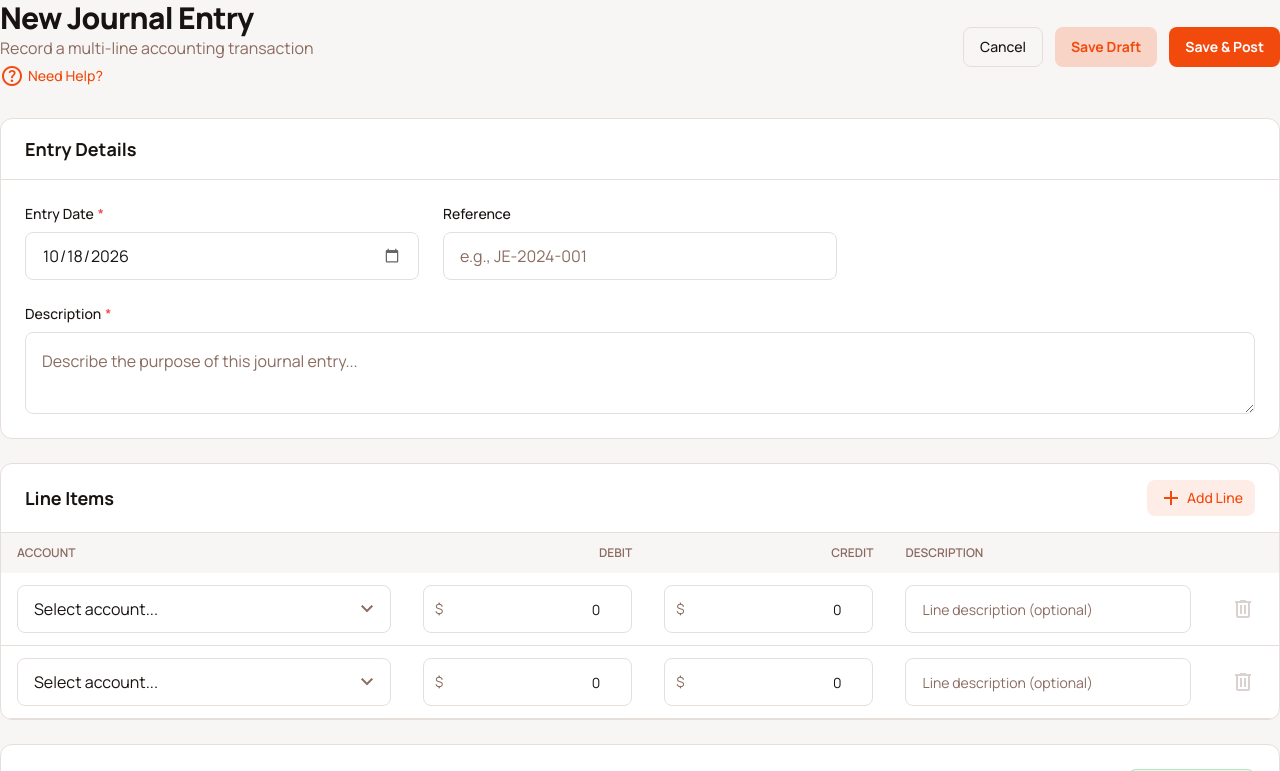
Test: JournalEntryPage validation › rejects an unbalanced draft with the totals message
In the text box with test id "journal-entry-description-input": {"x": 640, "y": 373} [25, 332, 1255, 414], type "Unbalanced"
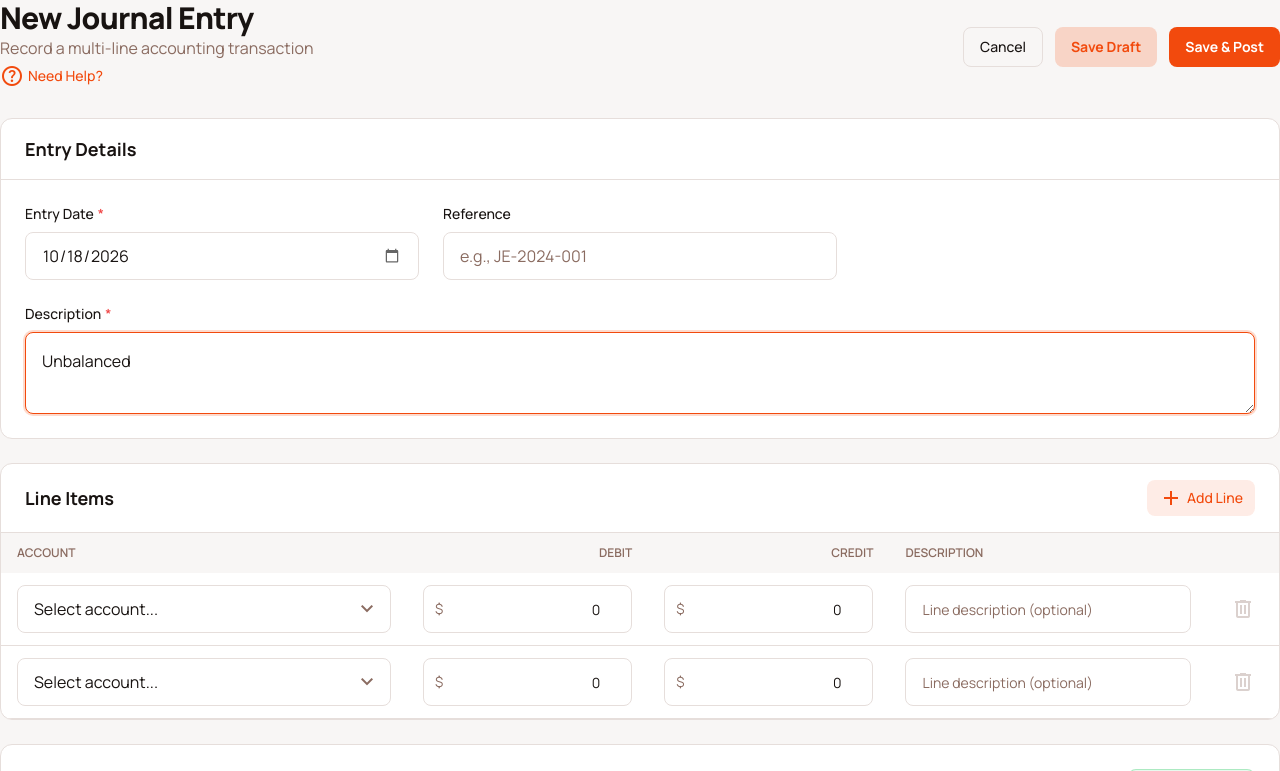
Select "5200 - Rent Expense" in the dropdown with test id "journal-entry-line-0-account": {"x": 204, "y": 609} [17, 585, 391, 633]
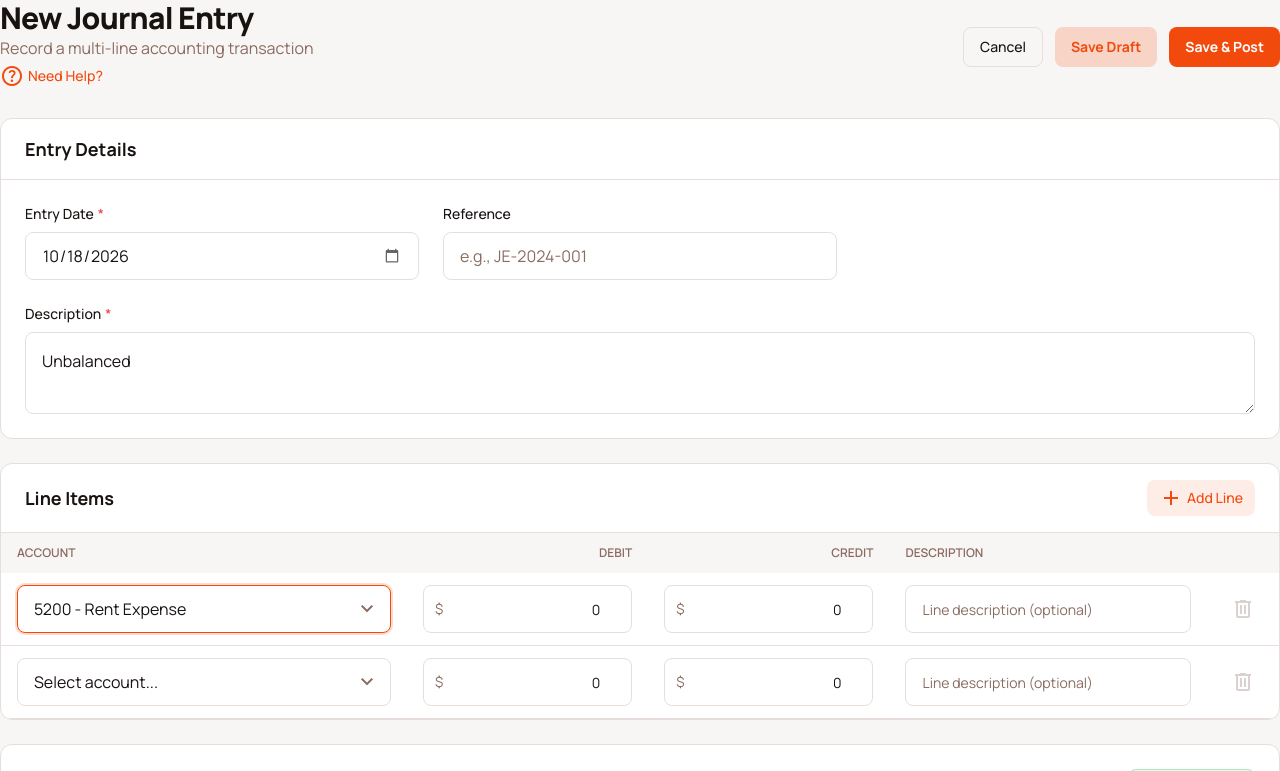
Replace the text in the number field with test id "journal-entry-line-0-debit" with "100": {"x": 528, "y": 609} [423, 585, 632, 633]
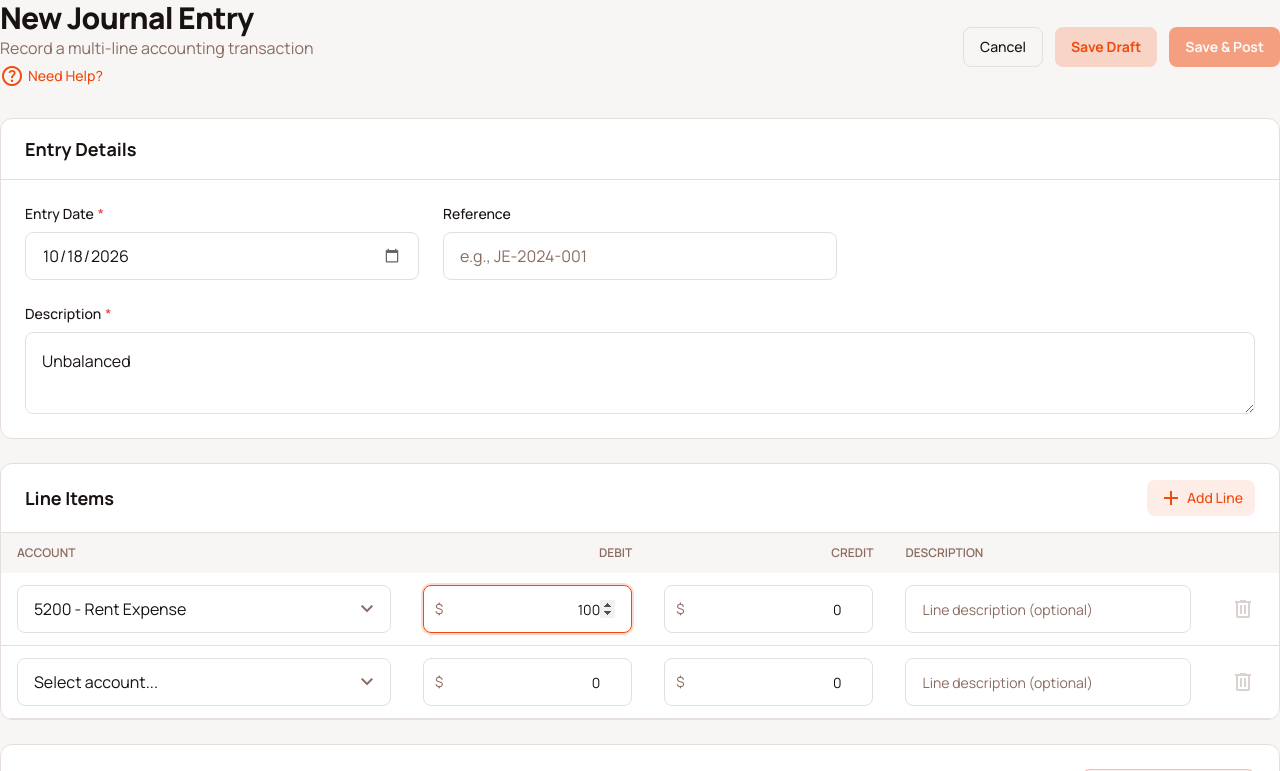
Select "1001 - Cash" in the dropdown with test id "journal-entry-line-1-account": {"x": 204, "y": 682} [17, 658, 391, 706]
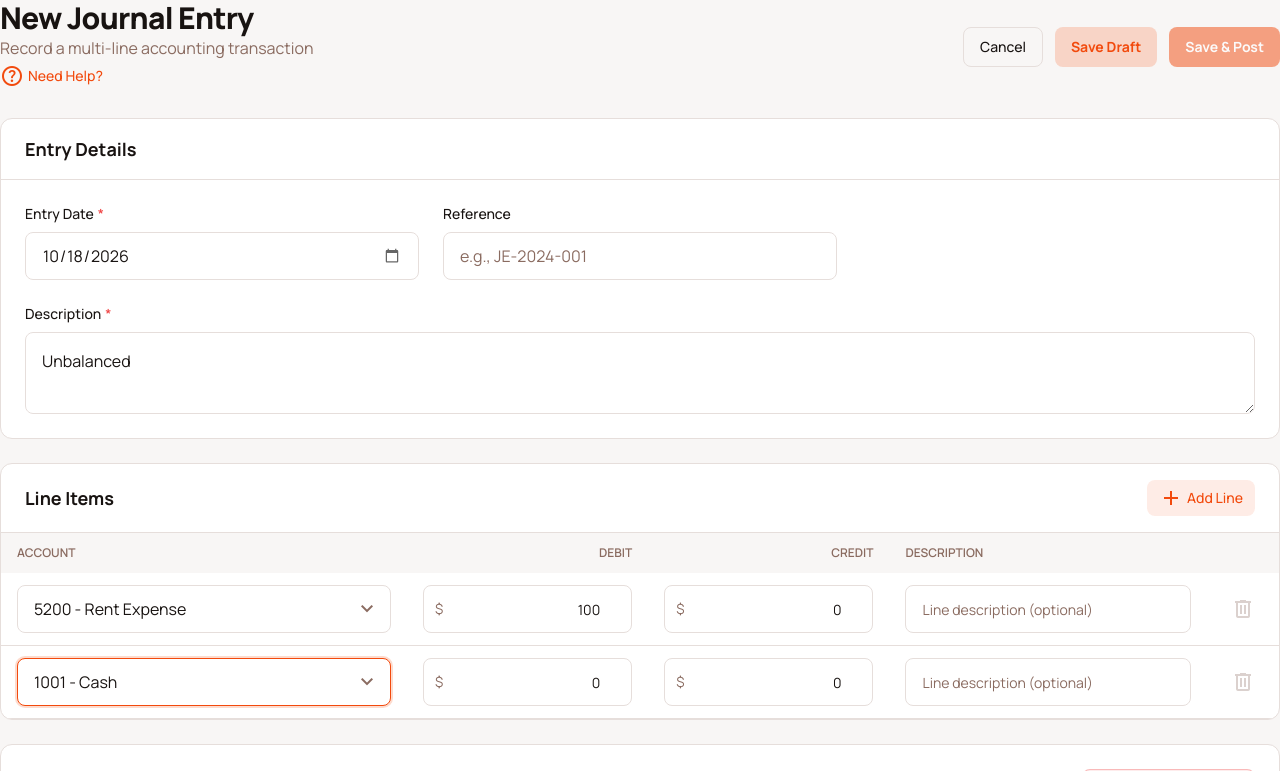
Replace the text in the number field named "Line 2 credit amount" with "99.98": {"x": 769, "y": 682} [664, 658, 874, 706]
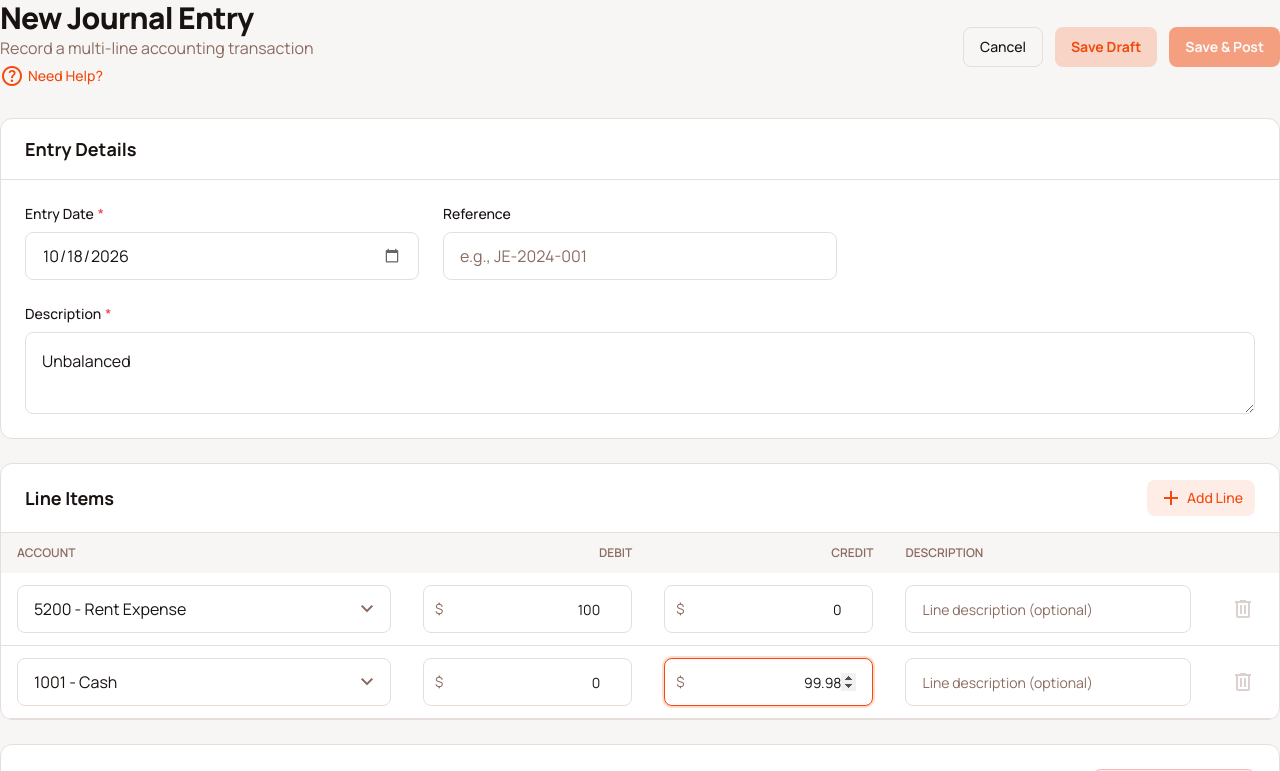
Click the button with test id "journal-entry-save-draft-button": {"x": 1106, "y": 47} [1055, 27, 1157, 67]
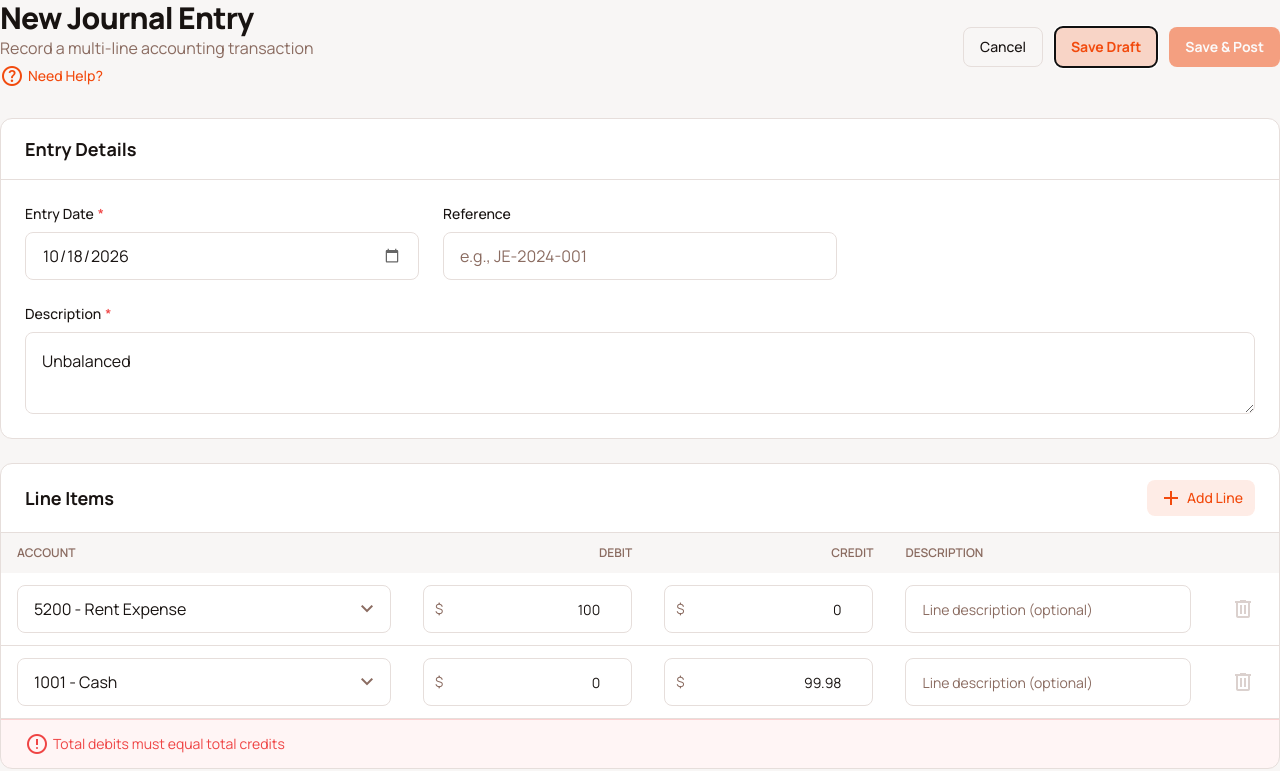
Expected: the text "Total debits must equal total credits" is shown, [25, 730, 285, 758]
